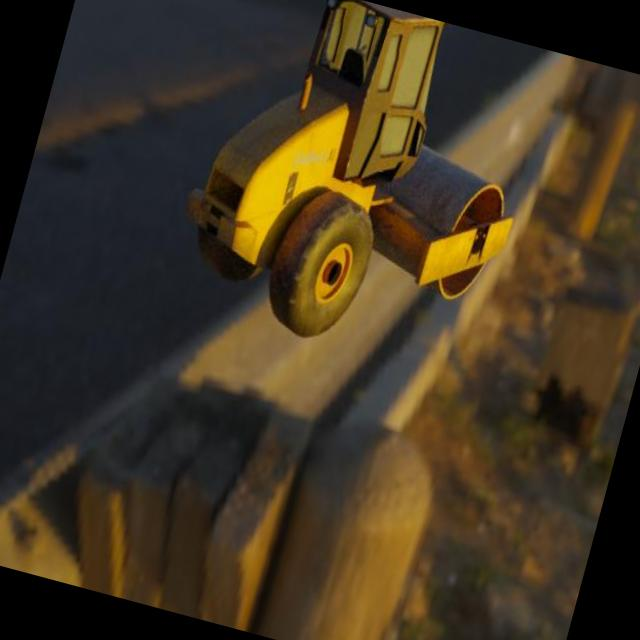Roller: (159, 0, 557, 382)
